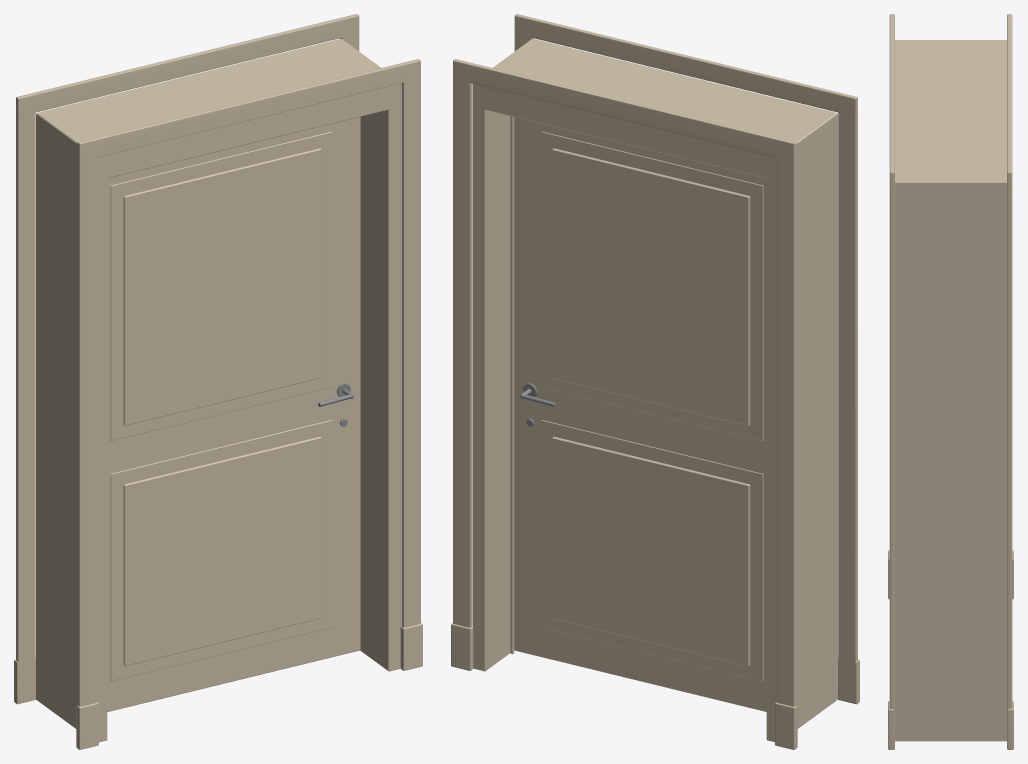
Rendered from prop_door_service_ivory_t40.glb.
3 renders of one model, left to right at view 1: azimuth 30°, elevation 25°; view 2: azimuth 150°, elevation 25°; view 3: azimuth 270°, elevation 25°, orthographic. The views are drawn at different scales.
Visible parts, largest first — view 1: LeafMesh, Frame; view 2: LeafMesh, Frame; view 3: Frame.
Boxes of the visible parts, x1,y1,x2,y2 form: LeafMesh: (107, 117, 360, 711); Frame: (14, 14, 422, 749); LeafMesh: (514, 117, 766, 711); Frame: (451, 14, 859, 749); Frame: (888, 14, 1013, 749).
Size of what is drawn, in the model's own units: 1.35 by 2.27 by 0.448.
